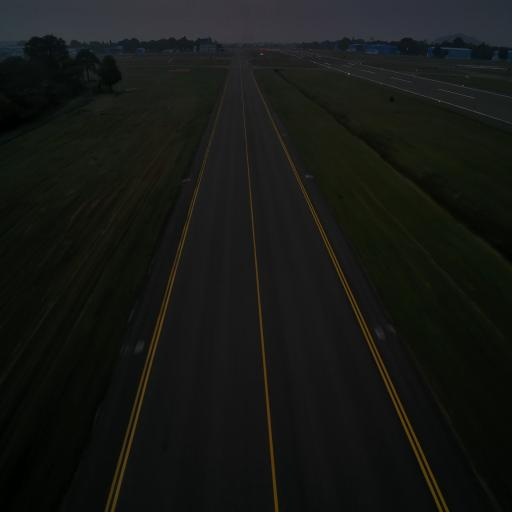on: (306, 172, 309, 176), (188, 175, 190, 180)
